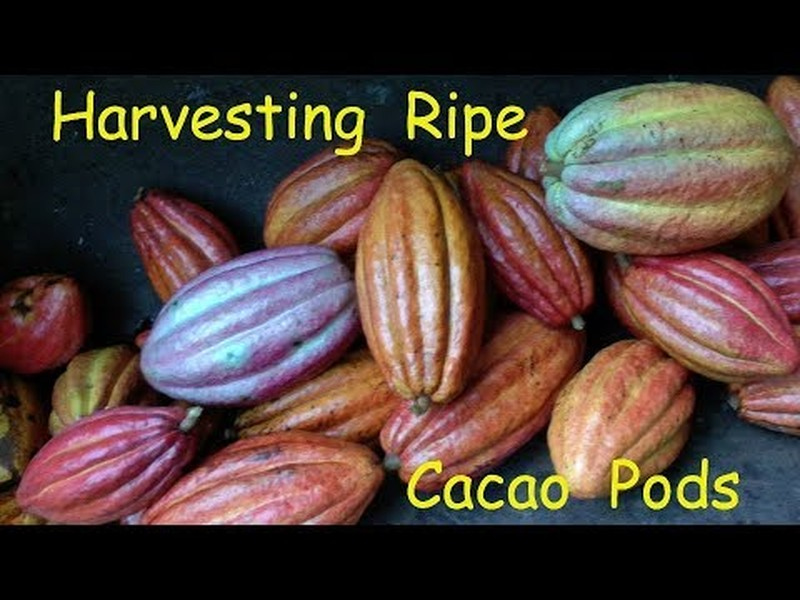Cacaopod: (543, 81, 797, 257), (139, 246, 360, 410)
